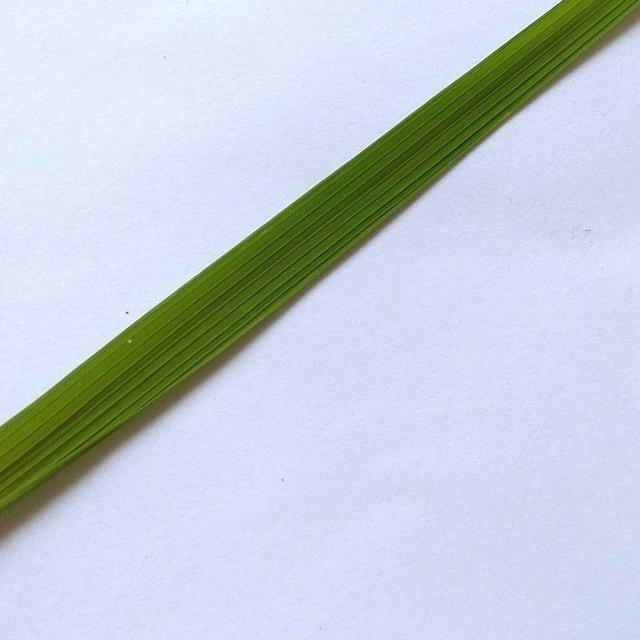Rice_Healthy: (0, 0, 640, 510)
